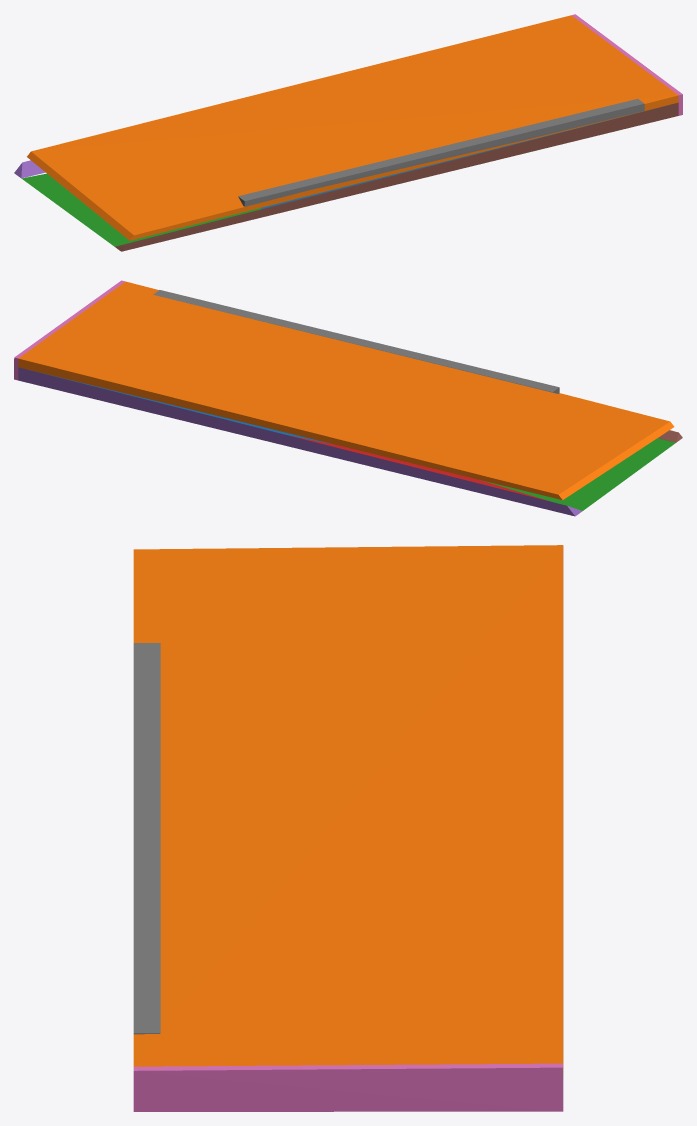
The model's file is Wall_05_cvx.obj.
3 views of the same model, one above another, from view 1: azimuth 30°, elevation 25°; view 2: azimuth 150°, elevation 25°; view 3: azimuth 270°, elevation 25° (orthographic). The views are drawn at different scales.
Parts seen in each view (by area): view 1: scenes/apartment_0000_coacd/output/Unknown/Wall_05/cvx/Wall_0500; view 2: scenes/apartment_0000_coacd/output/Unknown/Wall_05/cvx/Wall_0500; view 3: scenes/apartment_0000_coacd/output/Unknown/Wall_05/cvx/Wall_0500.
Part boxes in pixels (bbox=[...]): scenes/apartment_0000_coacd/output/Unknown/Wall_05/cvx/Wall_0500: bbox=[14, 14, 682, 251]; scenes/apartment_0000_coacd/output/Unknown/Wall_05/cvx/Wall_0500: bbox=[14, 280, 682, 516]; scenes/apartment_0000_coacd/output/Unknown/Wall_05/cvx/Wall_0500: bbox=[133, 545, 563, 1111].
Size of the model in its own units: 11.59 by 0.4362 by 3.84.
